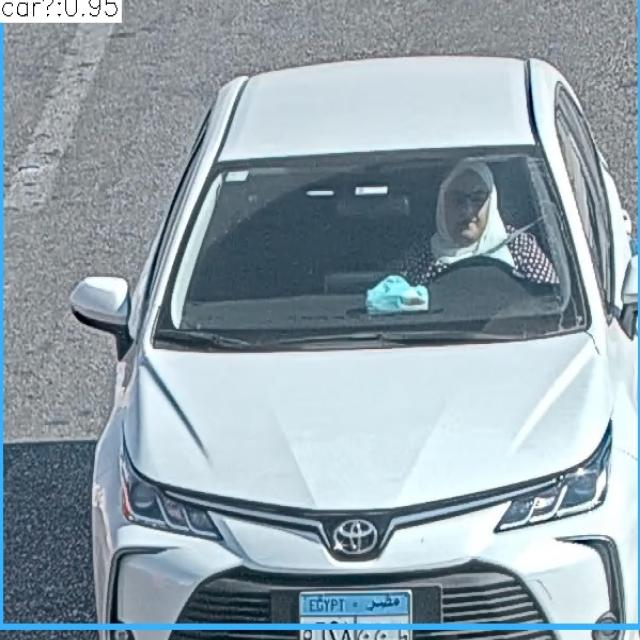windshield: (162, 161, 591, 335)
